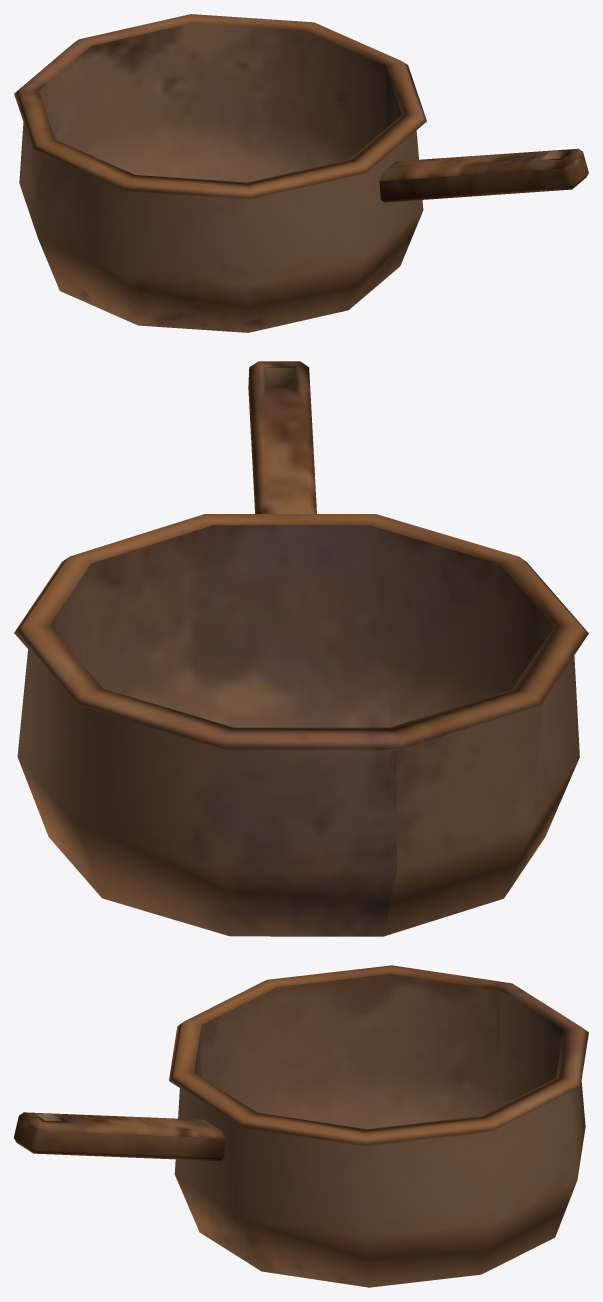
The model's file is pan1.fbx.
3 views of the same model, one above another, from view 1: azimuth 30°, elevation 25°; view 2: azimuth 150°, elevation 25°; view 3: azimuth 270°, elevation 25° (orthographic). The views are drawn at different scales.
Parts seen in each view (by area): view 1: Strove.007; view 2: Strove.007; view 3: Strove.007.
Boxes of the visible parts, box(x1,y1,x2,y2) form: Strove.007: box(14, 14, 588, 332); Strove.007: box(14, 361, 588, 936); Strove.007: box(14, 965, 588, 1287).
Bounding box in the file's own units: 27.72 × 12.77 × 34.71.
1 material, 1 textured.
